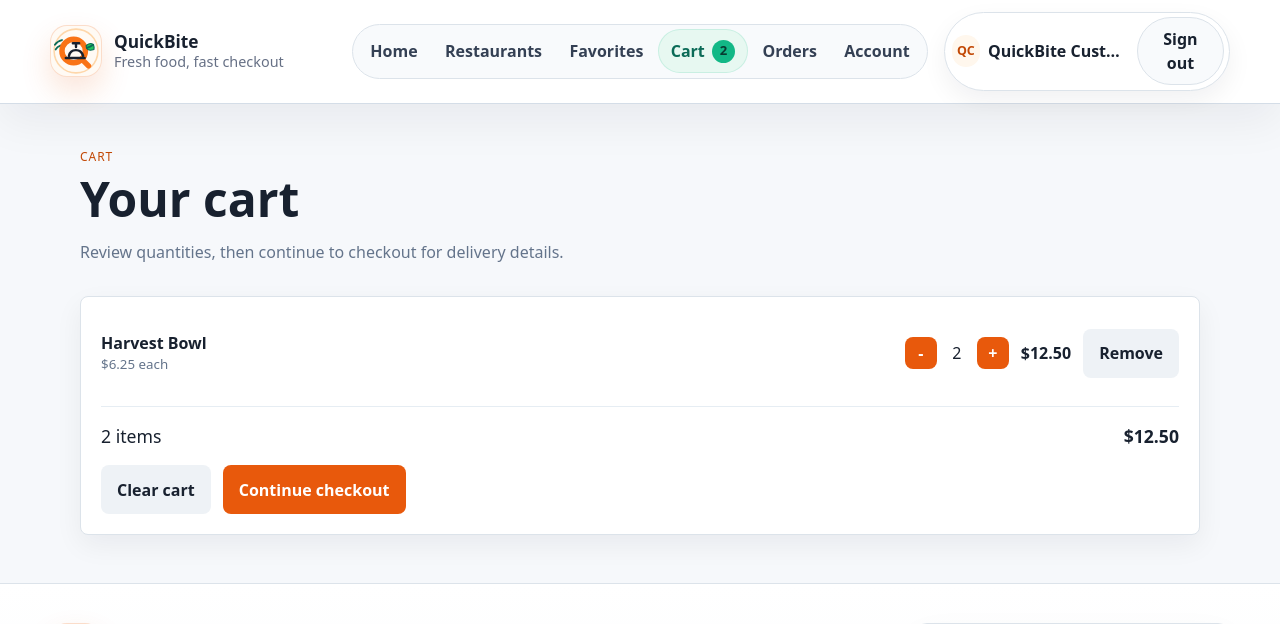
Scenario: QuickBite app shell › lets customers review cart quantities before checkout
This screenshot has width=1280, height=624.
Expected: the heading "Your cart" is shown, [80,166,299,230]
Expected: the text "Harvest Bowl" is shown, [101,332,207,354]
Click the button named "Increase Harvest Bowl": click(993, 353) [977,337,1009,369]
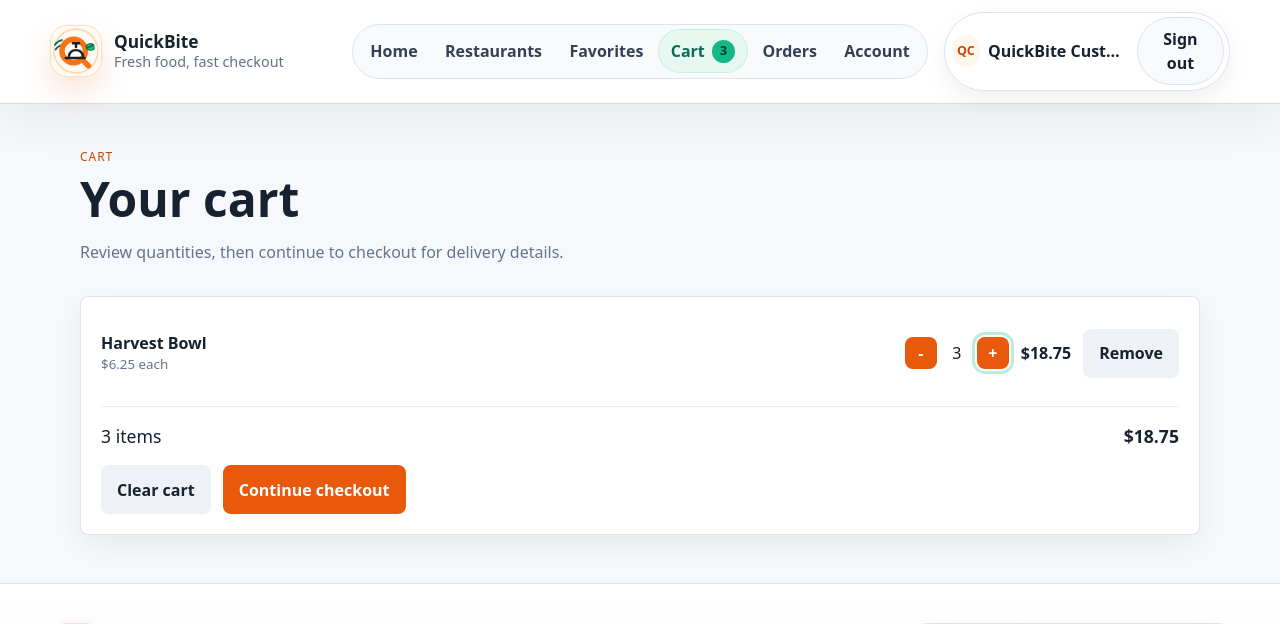
Expected: the text "$18.75" in the row of "Harvest Bowl" is shown, [1021,341,1071,365]
Click the button "Continue checkout": click(314, 490) [223,465,406,514]
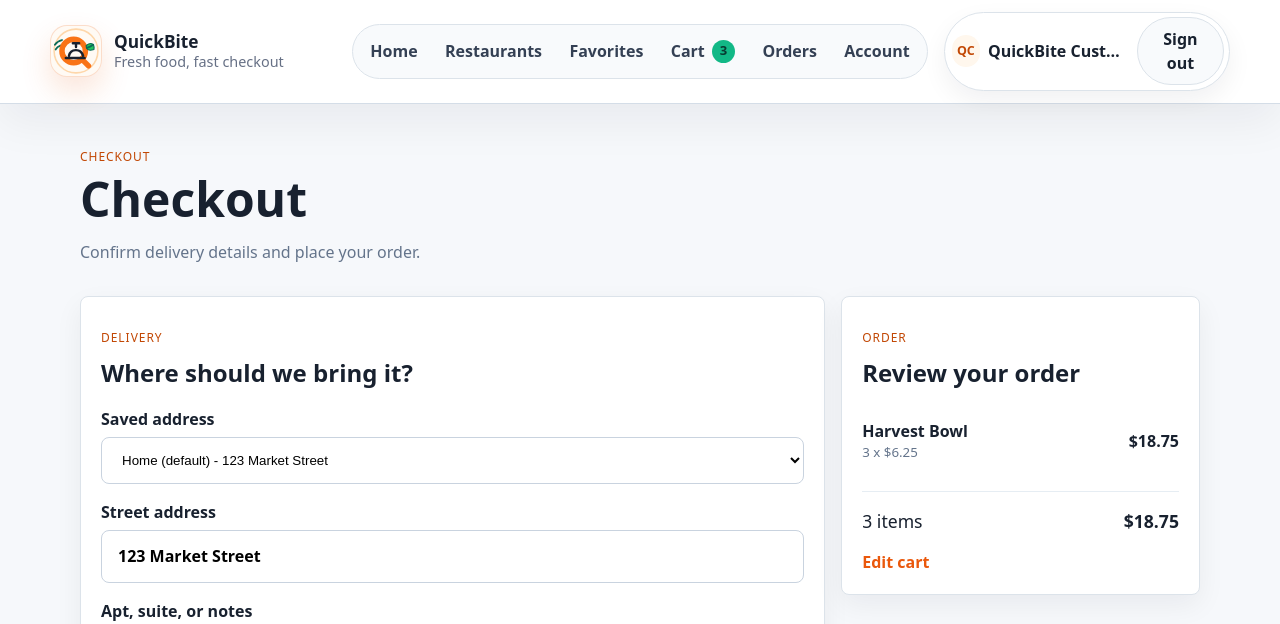
Expected: the heading "Checkout" is shown, [80,166,307,230]
Expected: the element named "Checkout order summary" shows "$18.75", [841,296,1200,595]
